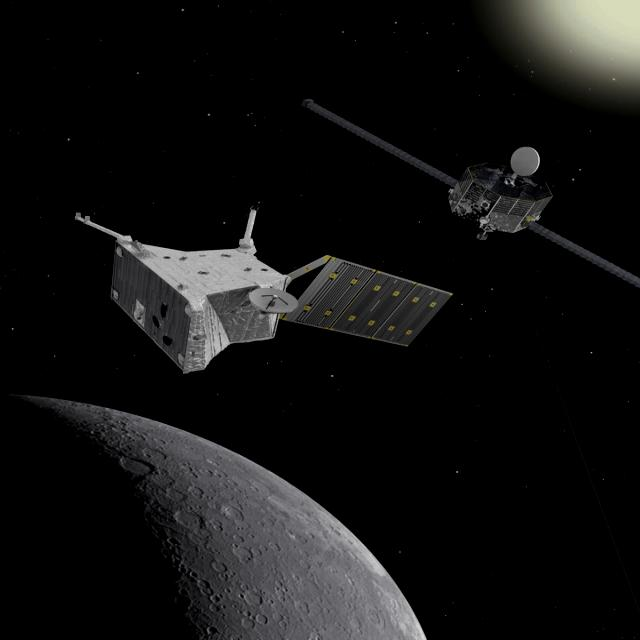satellite: (63, 193, 437, 375), (286, 95, 640, 268)
